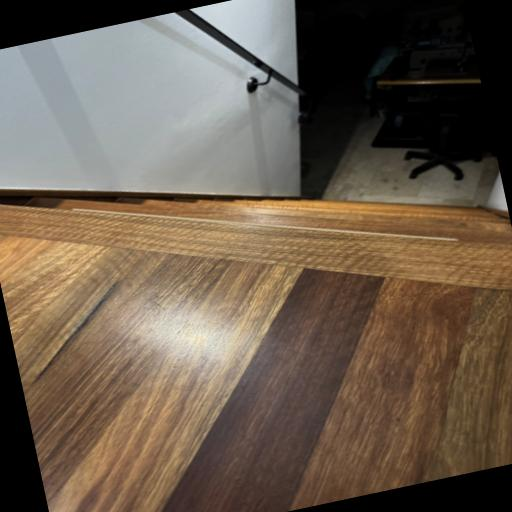stairs: (34, 197, 512, 243)
